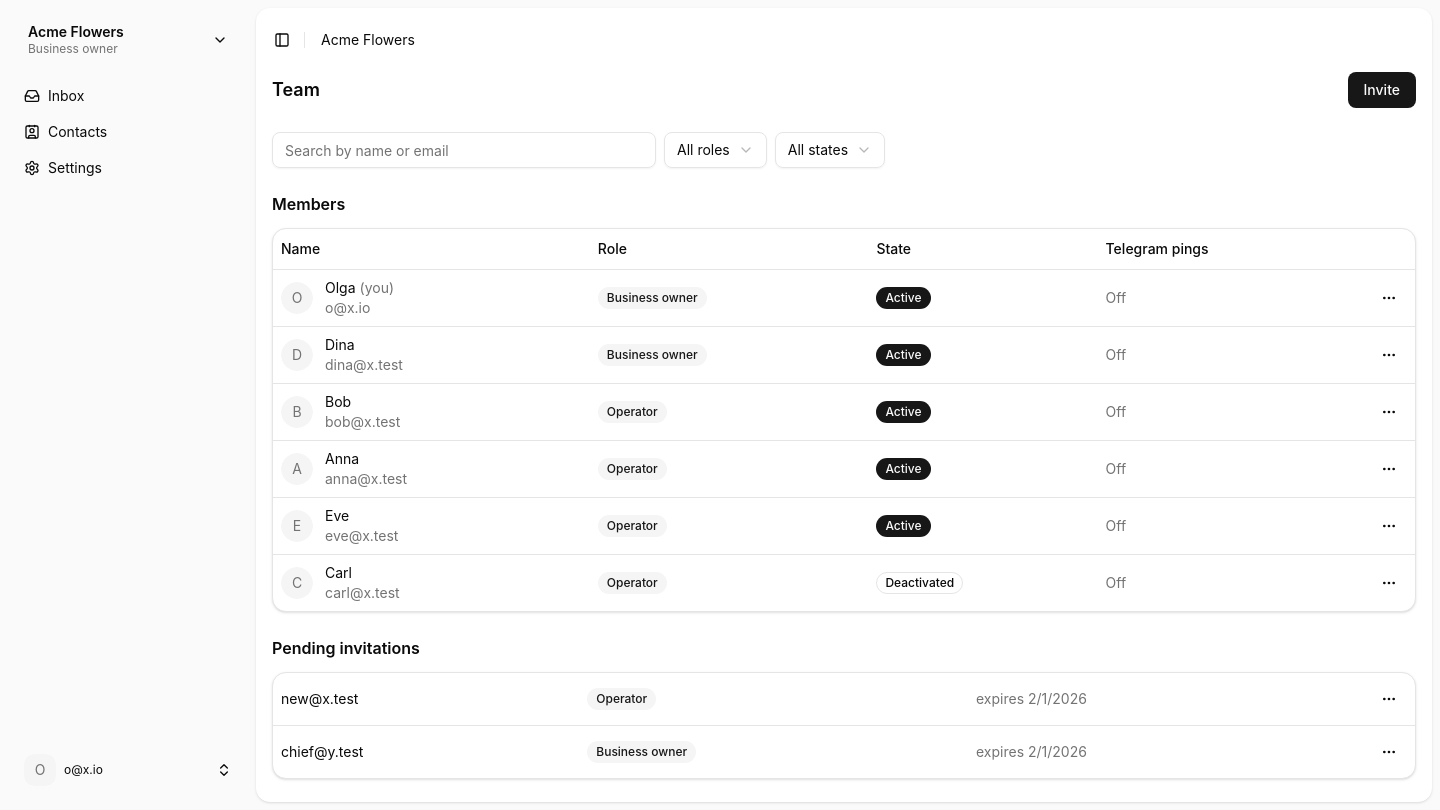
Scenario: Team filters (SCR-12, AC-08) › the role filter offers «Business owner» and narrows to owners
Expected: the text "Bob" is shown, [325,392,351,410]
Press Enter in the dropdown labelled "All roles", box [664,132,767,168]
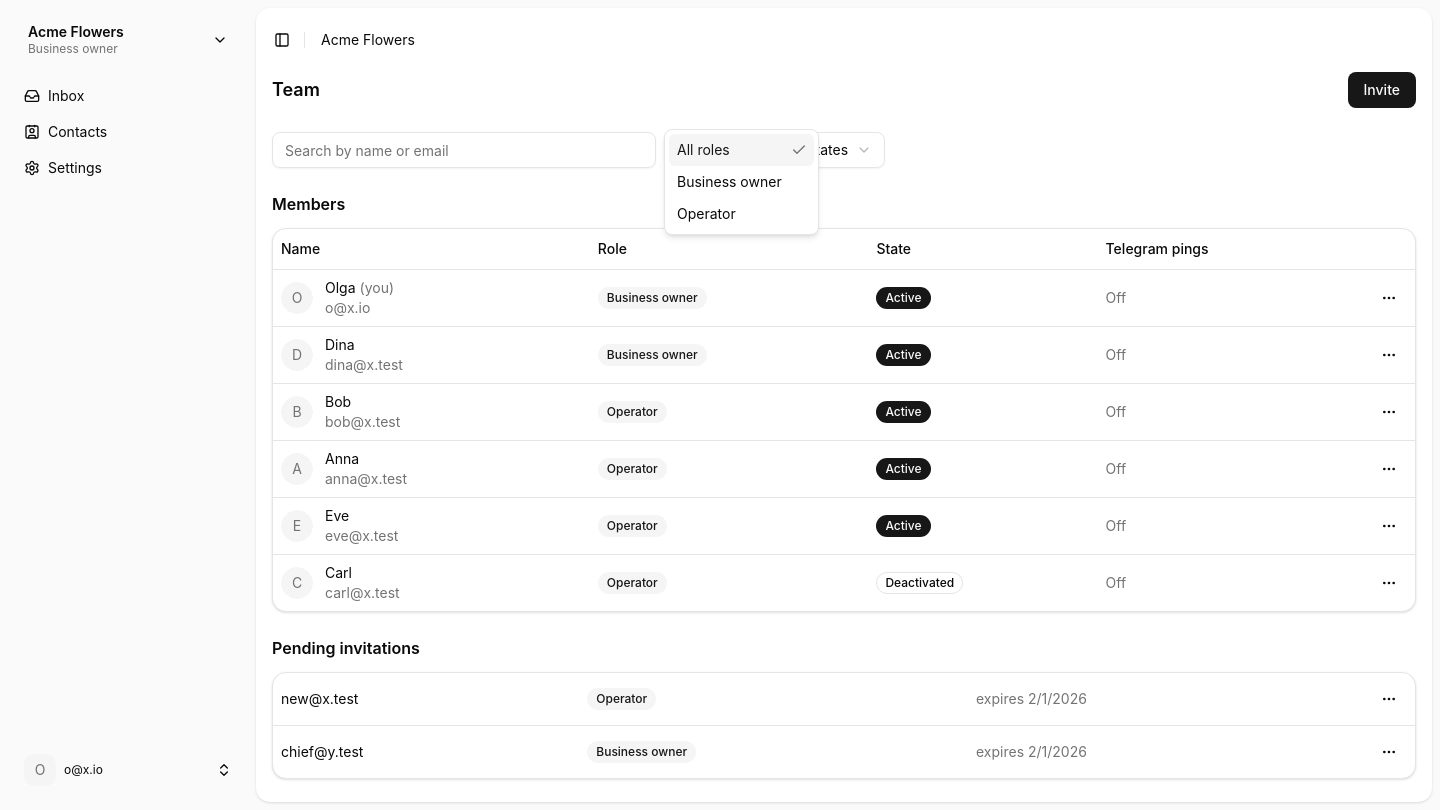
Click the option "Business owner". click: (729, 182)
box: [677,173,782,190]
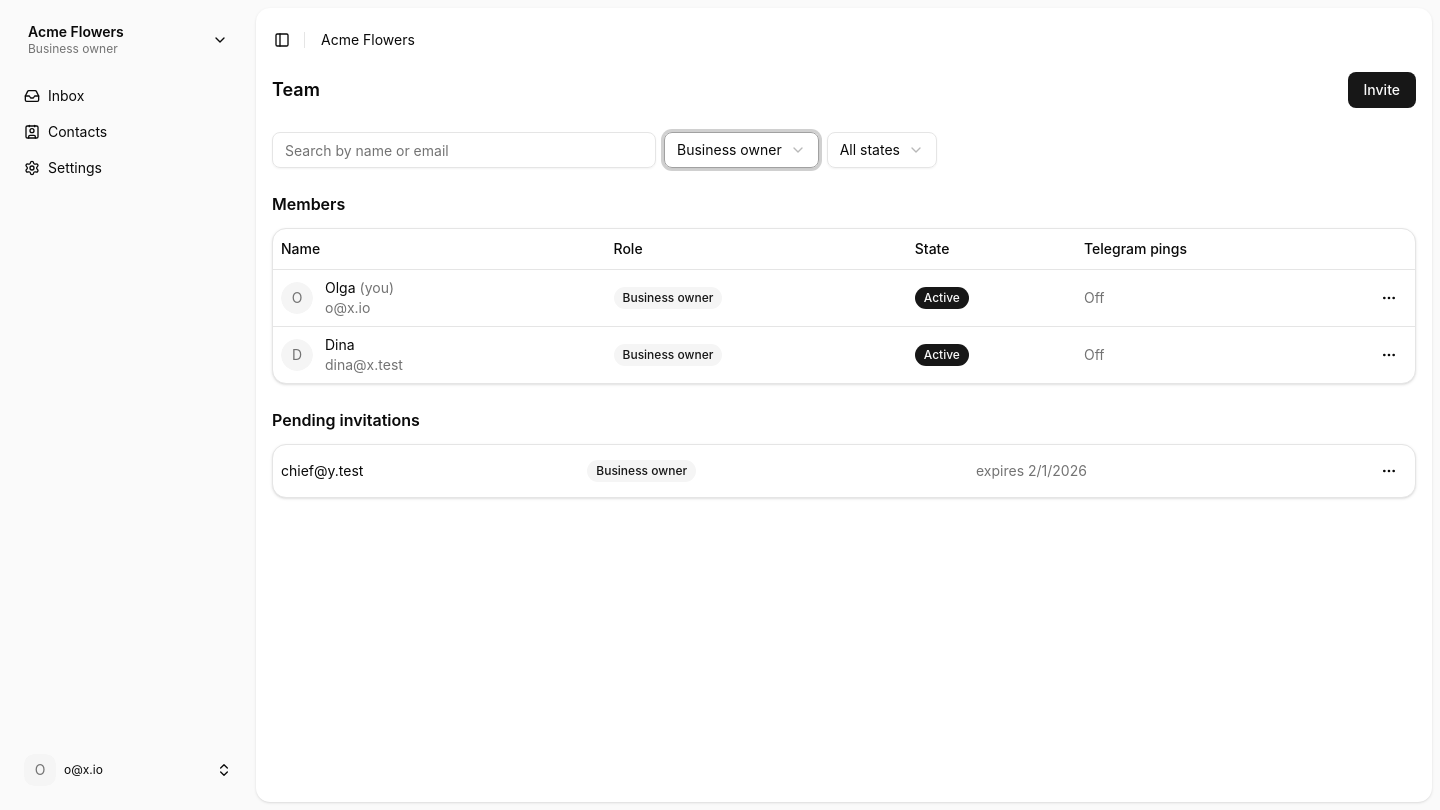
Expected: the text "Olga" is shown, [325,278,356,296]
Result: the text "Bob" is gone
